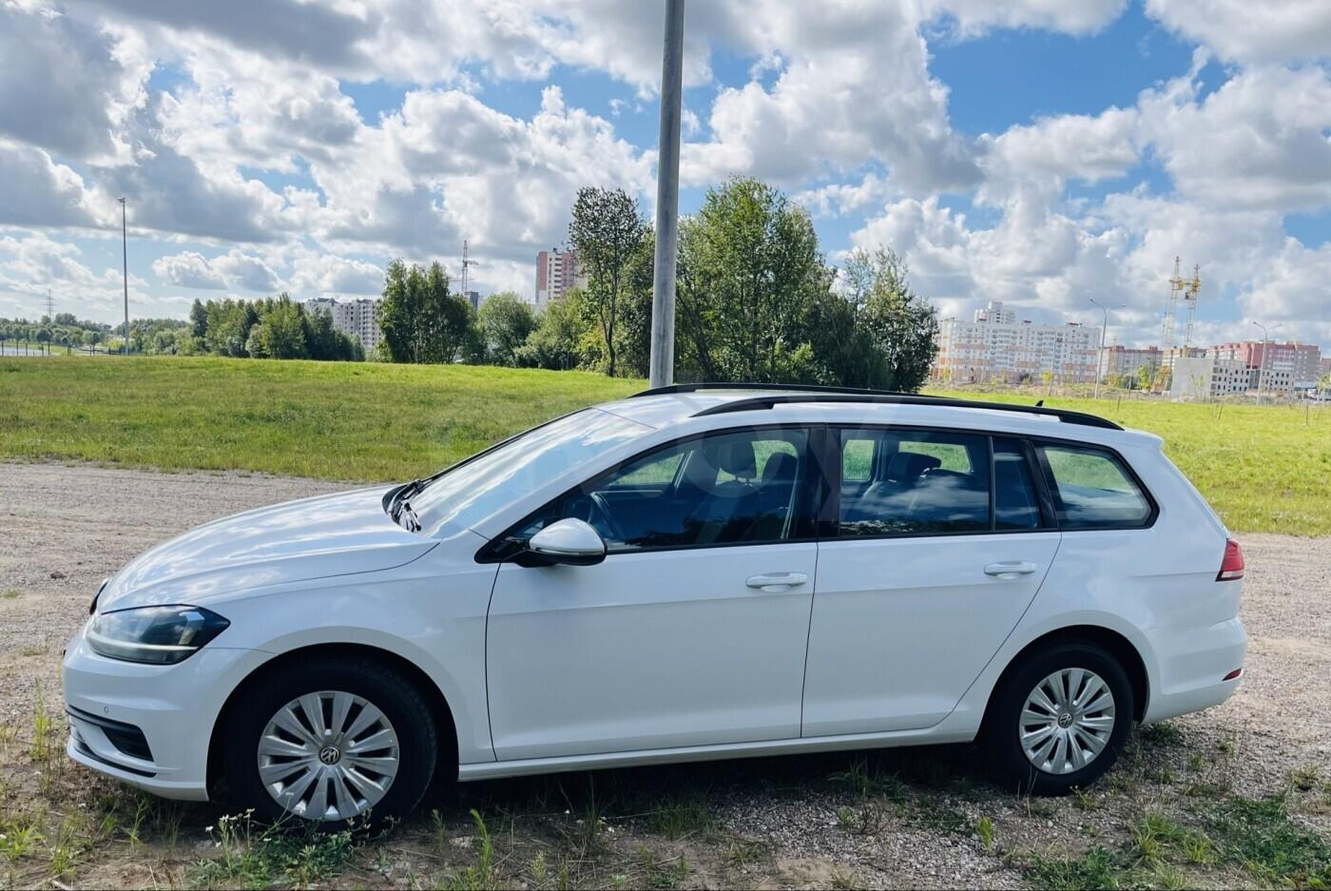Golf_2017-2021: (49, 385, 1246, 844)
